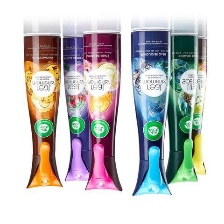aerosol_cans: (128, 26, 178, 200), (19, 31, 71, 191), (79, 29, 125, 196), (61, 33, 104, 186), (161, 31, 199, 187), (180, 34, 209, 179)
